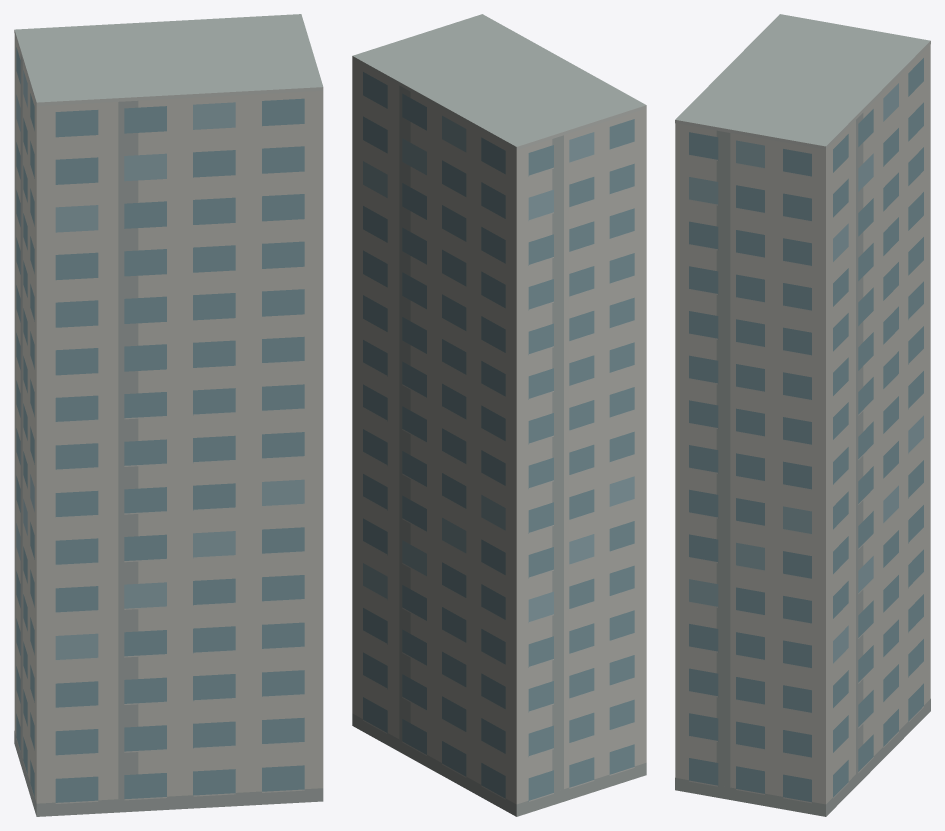
The model's file is residential-9b35da0e-cc64-4e69-91d5-d41b01abdaad.glb.
3 views of the same model, side by side, from view 1: azimuth 30°, elevation 25°; view 2: azimuth 150°, elevation 25°; view 3: azimuth 270°, elevation 25° (orthographic). The views are drawn at different scales.
Visible parts, largest first — view 1: residential-9b35da0e-cc64-4e69-91d5-d41b01abdaad.tmp; view 2: residential-9b35da0e-cc64-4e69-91d5-d41b01abdaad.tmp; view 3: residential-9b35da0e-cc64-4e69-91d5-d41b01abdaad.tmp.
Part boxes in pixels (left/top/right/bottom): residential-9b35da0e-cc64-4e69-91d5-d41b01abdaad.tmp: left=14, top=14, right=323, bottom=816; residential-9b35da0e-cc64-4e69-91d5-d41b01abdaad.tmp: left=352, top=14, right=646, bottom=816; residential-9b35da0e-cc64-4e69-91d5-d41b01abdaad.tmp: left=675, top=14, right=930, bottom=816.
Bounding box in the file's own units: 19.93 × 47 × 16.25.
